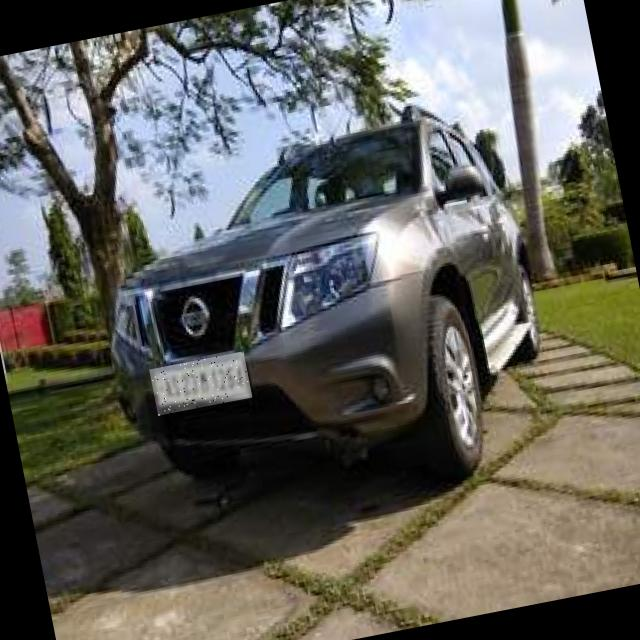Plate: (151, 353, 254, 417)
